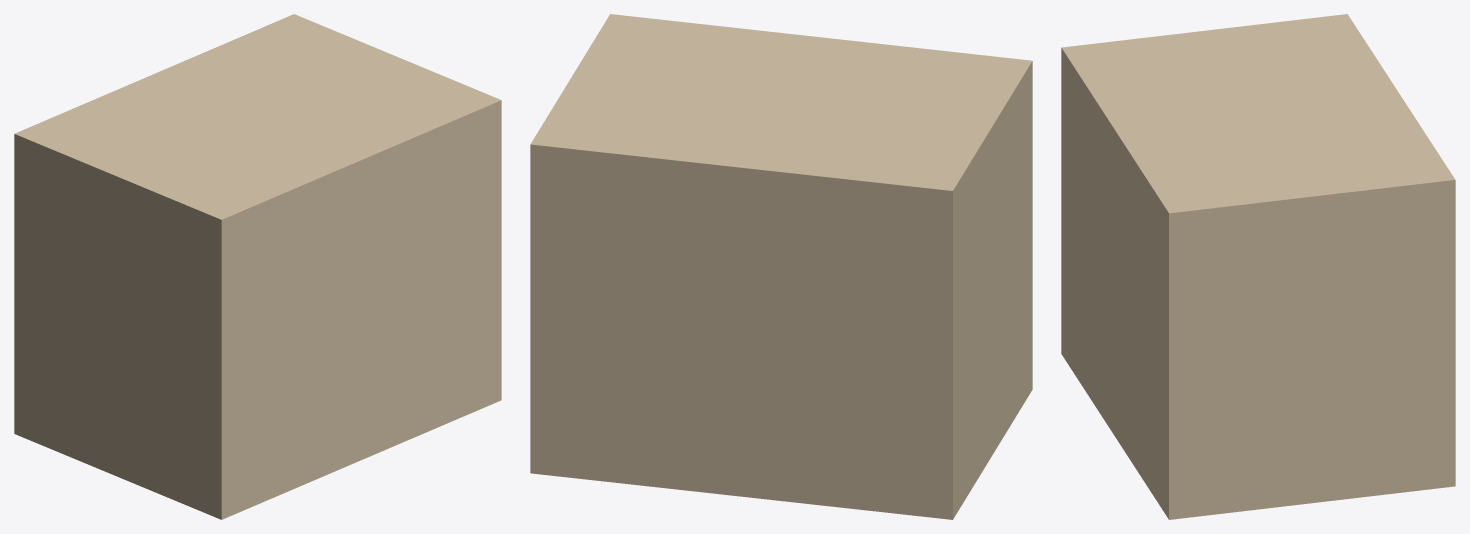
The picture shows the model from 3 angles, left to right: view 1: azimuth 30°, elevation 25°; view 2: azimuth 150°, elevation 25°; view 3: azimuth 270°, elevation 25°; orthographic projection. The views are drawn at different scales.
Parts seen in each view (by area): view 1: SM_d6876588572d7c70d9e1; view 2: SM_d6876588572d7c70d9e1; view 3: SM_d6876588572d7c70d9e1.
Part boxes in pixels (x1,y1,x2,y2): SM_d6876588572d7c70d9e1: (14, 14, 501, 519); SM_d6876588572d7c70d9e1: (530, 14, 1032, 519); SM_d6876588572d7c70d9e1: (1061, 14, 1455, 519).
Size of the model in its own units: 16.74 by 13.98 by 12.
